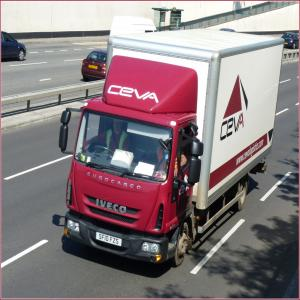Vehicle-registration-plate: (96, 232, 124, 248), (89, 65, 98, 70), (285, 43, 289, 46)
